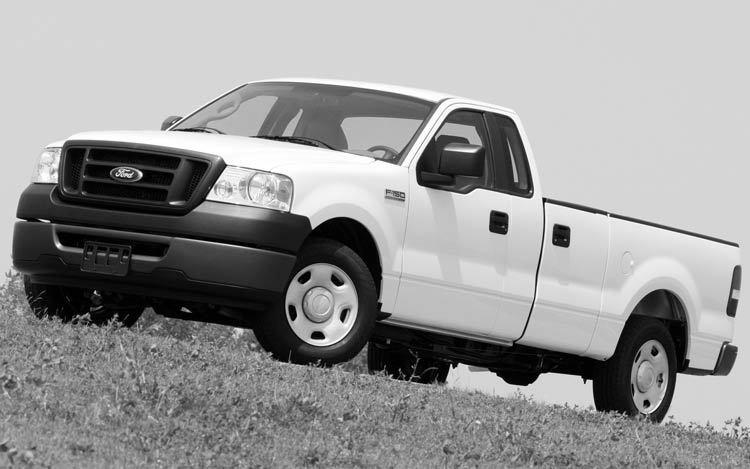car: (12, 78, 741, 424)
